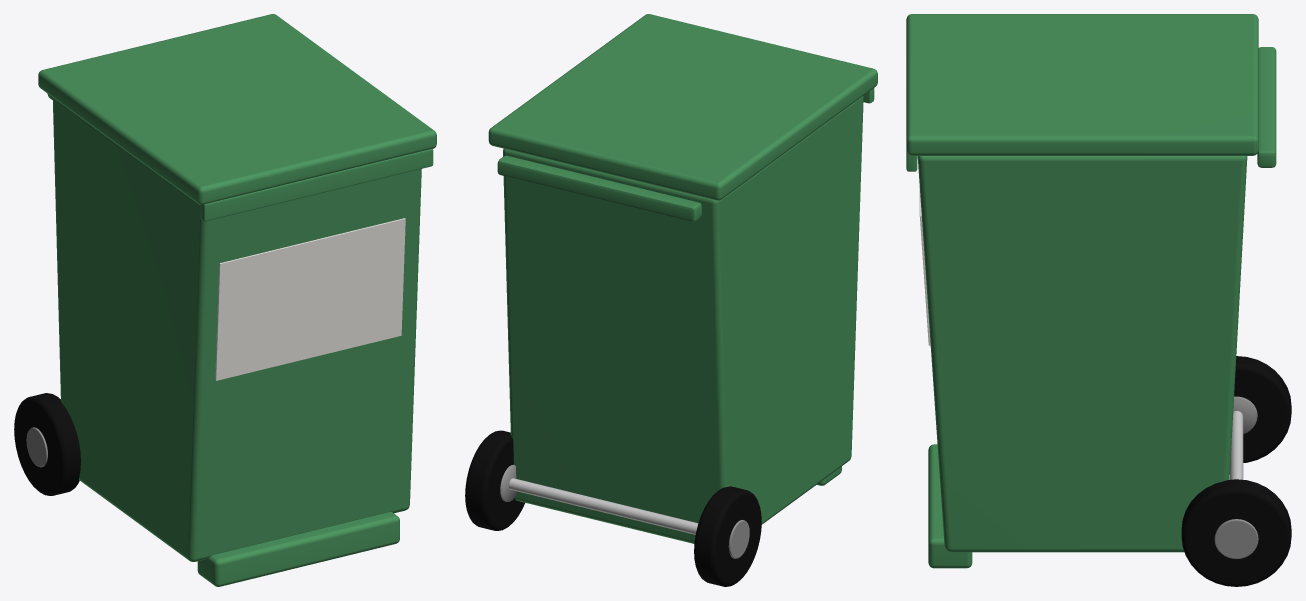
Rendered from industrial.yard.bin_metal.glb.
3 views of the same model, side by side, from view 1: azimuth 30°, elevation 25°; view 2: azimuth 150°, elevation 25°; view 3: azimuth 270°, elevation 25° (orthographic). The views are drawn at different scales.
Visible parts, largest first — view 1: main__paint_485, main__paint_eee, main__rubber, main__paint_999; view 2: main__paint_485, main__rubber, main__galv_ccc, main__paint_999; view 3: main__paint_485, main__rubber, main__paint_999, main__galv_ccc.
Boxes of the visible parts, box(x1,y1,x2,y2) form: main__paint_485: box(38, 14, 436, 586); main__paint_eee: box(215, 218, 405, 380); main__rubber: box(14, 393, 80, 495); main__paint_999: box(26, 427, 47, 467); main__paint_485: box(488, 14, 877, 543); main__rubber: box(465, 430, 761, 586); main__galv_ccc: box(509, 478, 698, 534); main__paint_999: box(500, 464, 749, 558); main__paint_485: box(906, 14, 1276, 568); main__rubber: box(1181, 356, 1291, 586); main__paint_999: box(1214, 396, 1258, 559); main__galv_ccc: box(1230, 411, 1243, 479).
Bounding box in the file's own units: 0.588 × 0.895 × 0.7.
